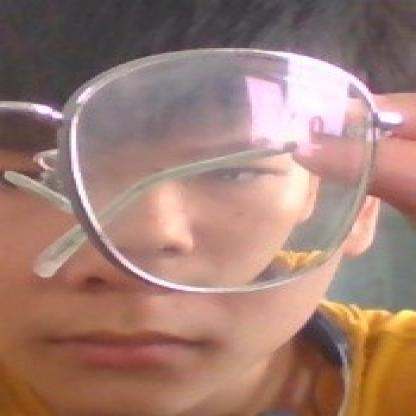not trash: (65, 50, 368, 293)
